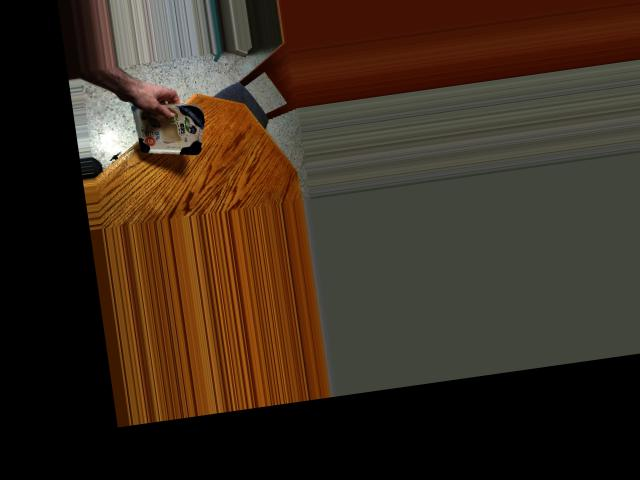cheese: (116, 97, 211, 162)
